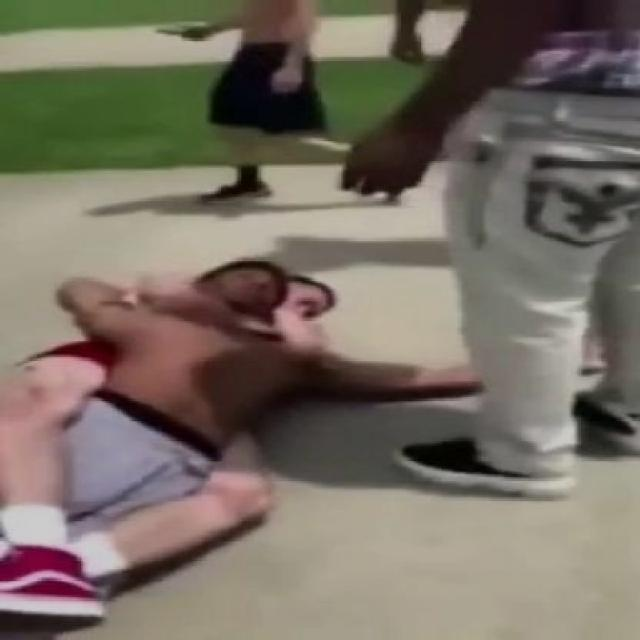fight: (0, 255, 609, 640)
non-fight: (333, 0, 640, 507)
